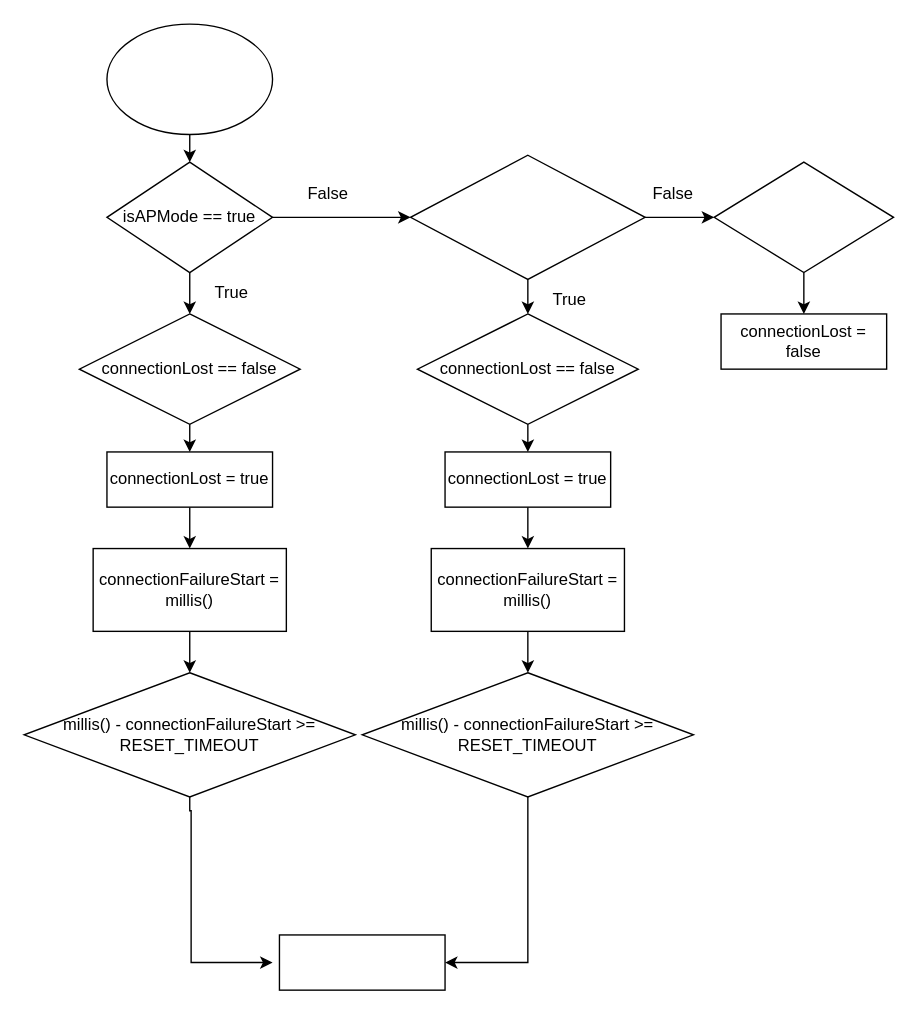
Some shapes in this 918 by 1014 pixel diagram are drawn without their labels. Here are the shapes that lost their labels. From the top down, the box of each, then its label:
(106, 23, 273, 135): Start TaskResetTimeout
(409, 154, 645, 279): WiFi.status() != WL_CONNECTED || !client.connected()
(713, 161, 894, 273): connectionLost == true
(278, 934, 445, 990): ESP.restart()
